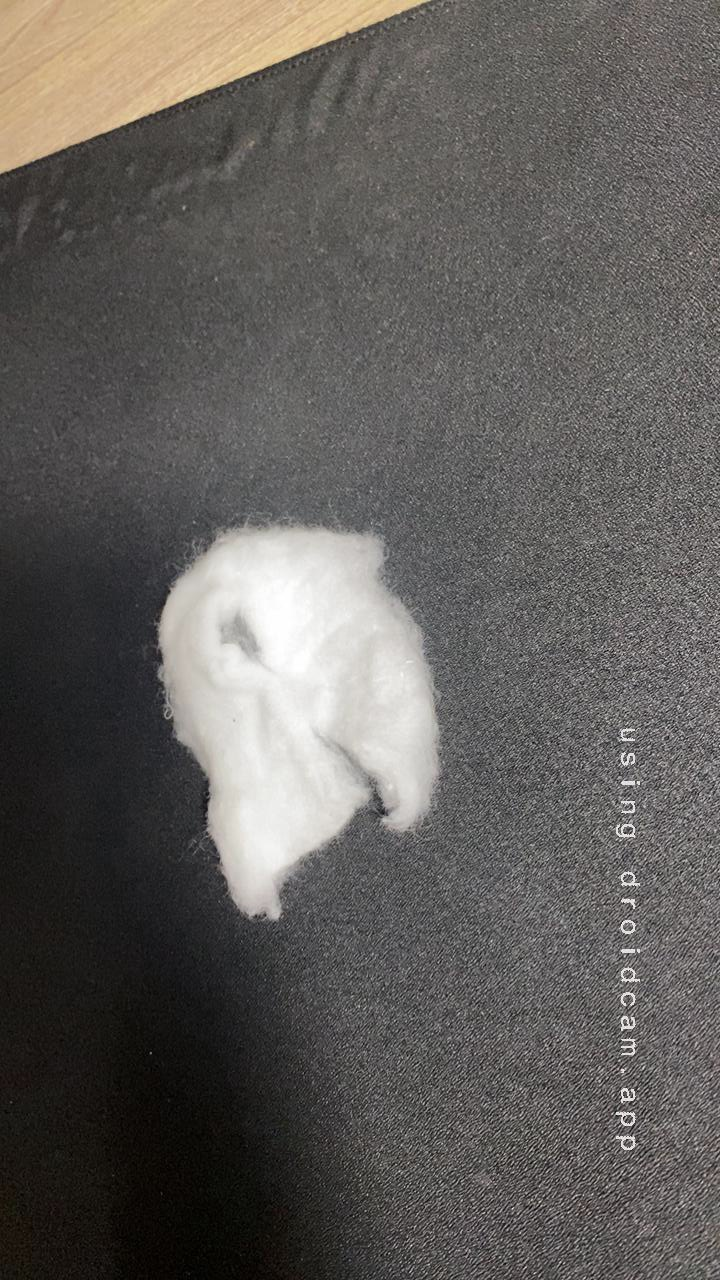cotton: (109, 506, 481, 907)
